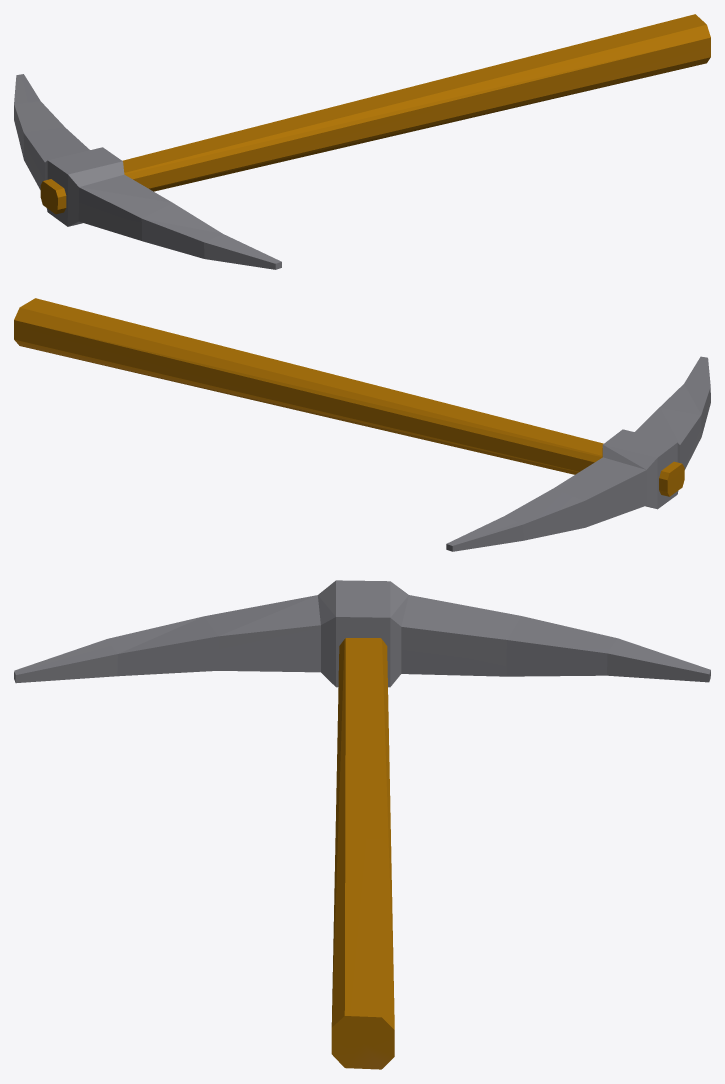
The model's file is pickaxe.fbx.
3 views of the same model, one above another, from view 1: azimuth 30°, elevation 25°; view 2: azimuth 150°, elevation 25°; view 3: azimuth 270°, elevation 25° (orthographic). The views are drawn at different scales.
Visible parts, largest first — view 1: pickaxe; view 2: pickaxe; view 3: pickaxe.
Part boxes in pixels (x1=…): pickaxe: x1=14, y1=14, x2=710, y2=269; pickaxe: x1=14, y1=298, x2=710, y2=551; pickaxe: x1=14, y1=580, x2=710, y2=1069.
Size of the model in its own units: 226 by 17.31 by 155.
